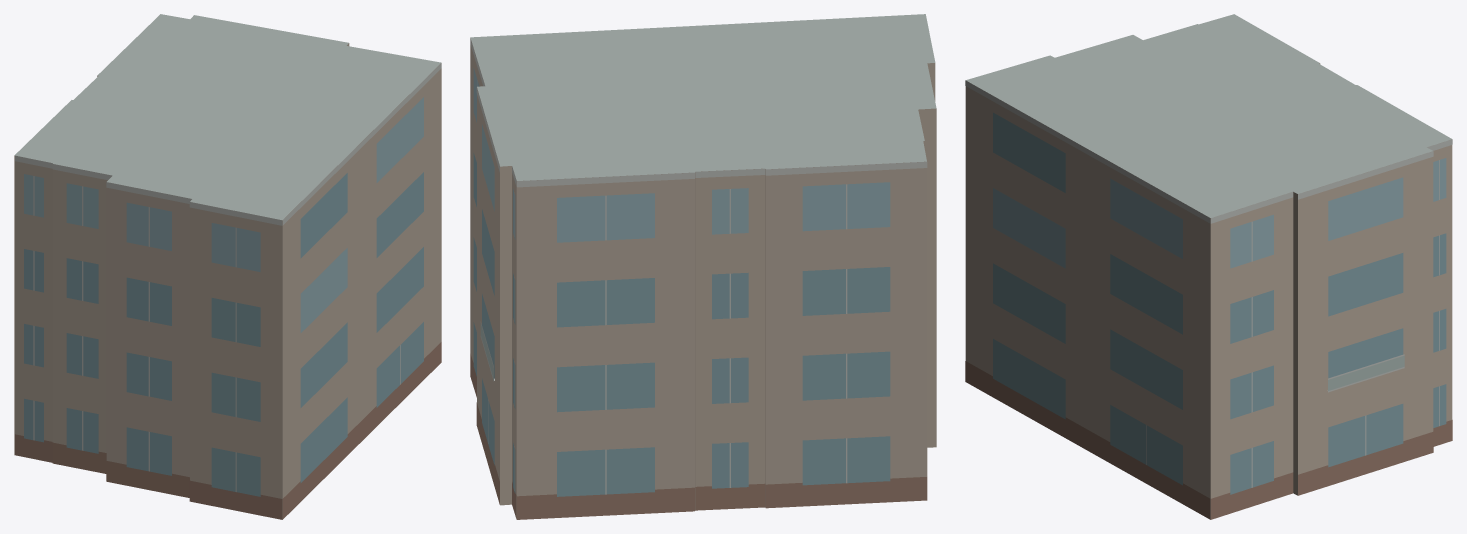
Rendered from survey-upis-32660707.glb.
3 views of the same model, side by side, from view 1: azimuth 30°, elevation 25°; view 2: azimuth 150°, elevation 25°; view 3: azimuth 270°, elevation 25° (orthographic). The views are drawn at different scales.
Parts seen in each view (by area): view 1: survey-upis-32660707.tmp; view 2: survey-upis-32660707.tmp; view 3: survey-upis-32660707.tmp.
Part boxes in pixels (x1,y1,x2,y2): survey-upis-32660707.tmp: (14, 14, 441, 519); survey-upis-32660707.tmp: (470, 14, 936, 519); survey-upis-32660707.tmp: (965, 14, 1452, 519).
Bounding box in the file's own units: 18.89 × 13 × 19.03.
